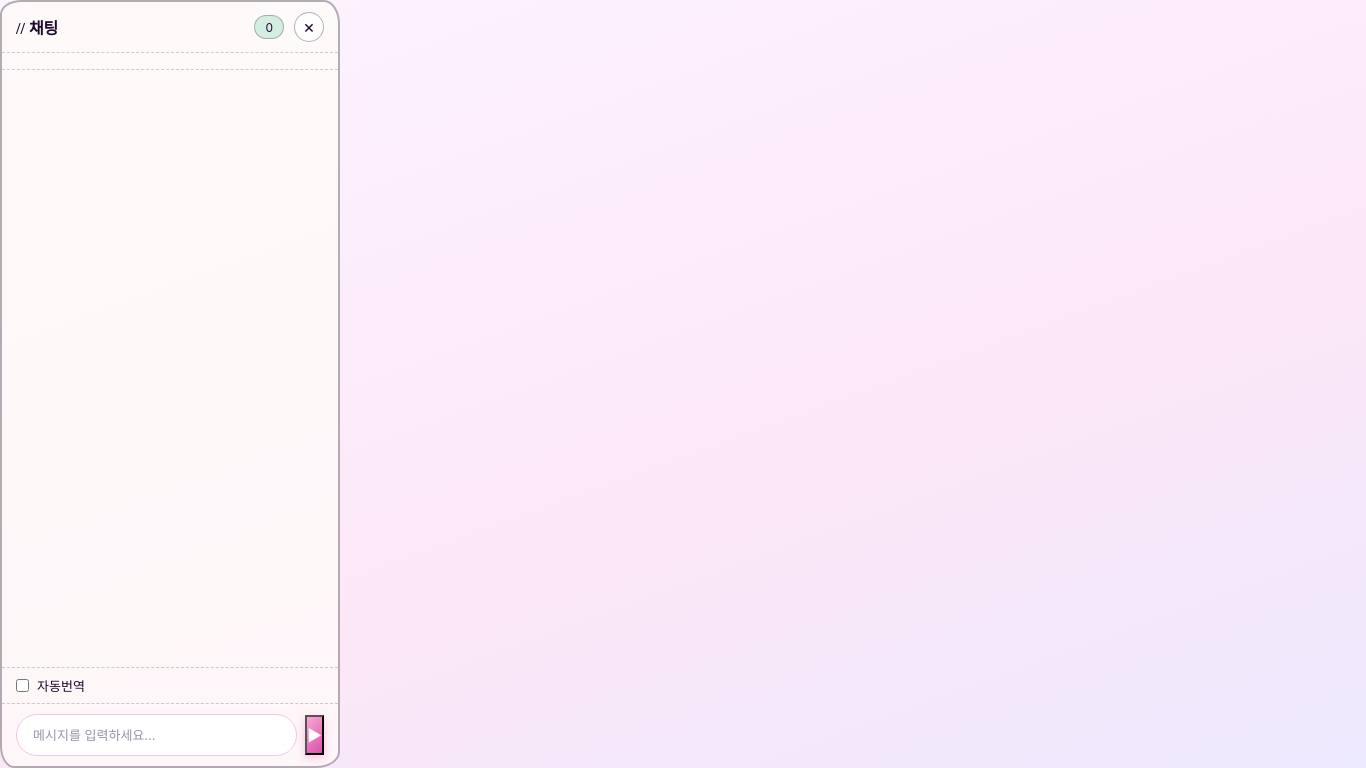
Scenario: ChatDock 입력창 › 소켓이 없으면 조용히 버리지 않고 실패를 알린다
Type "hello" into the field at (157, 735), box [16,714,297,756]
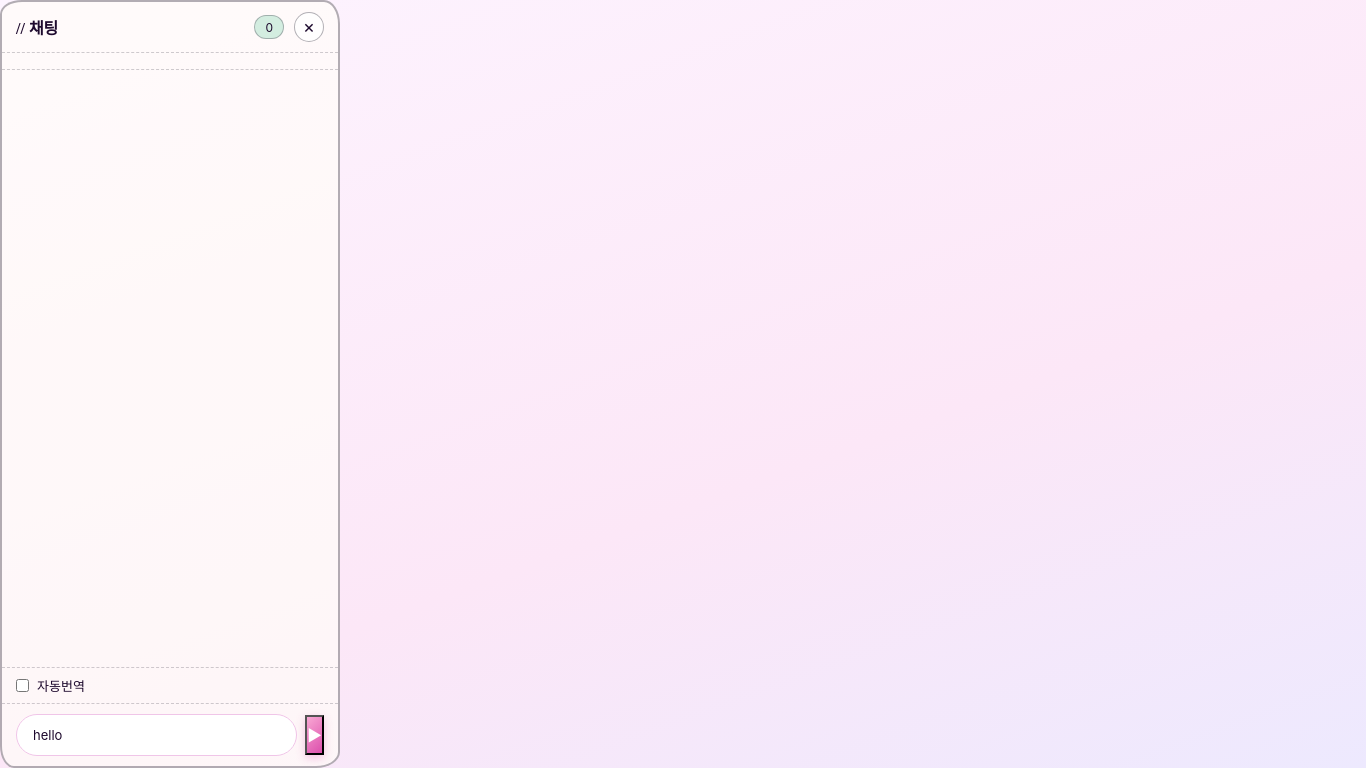
Press Enter in the field, box [16,714,297,756]
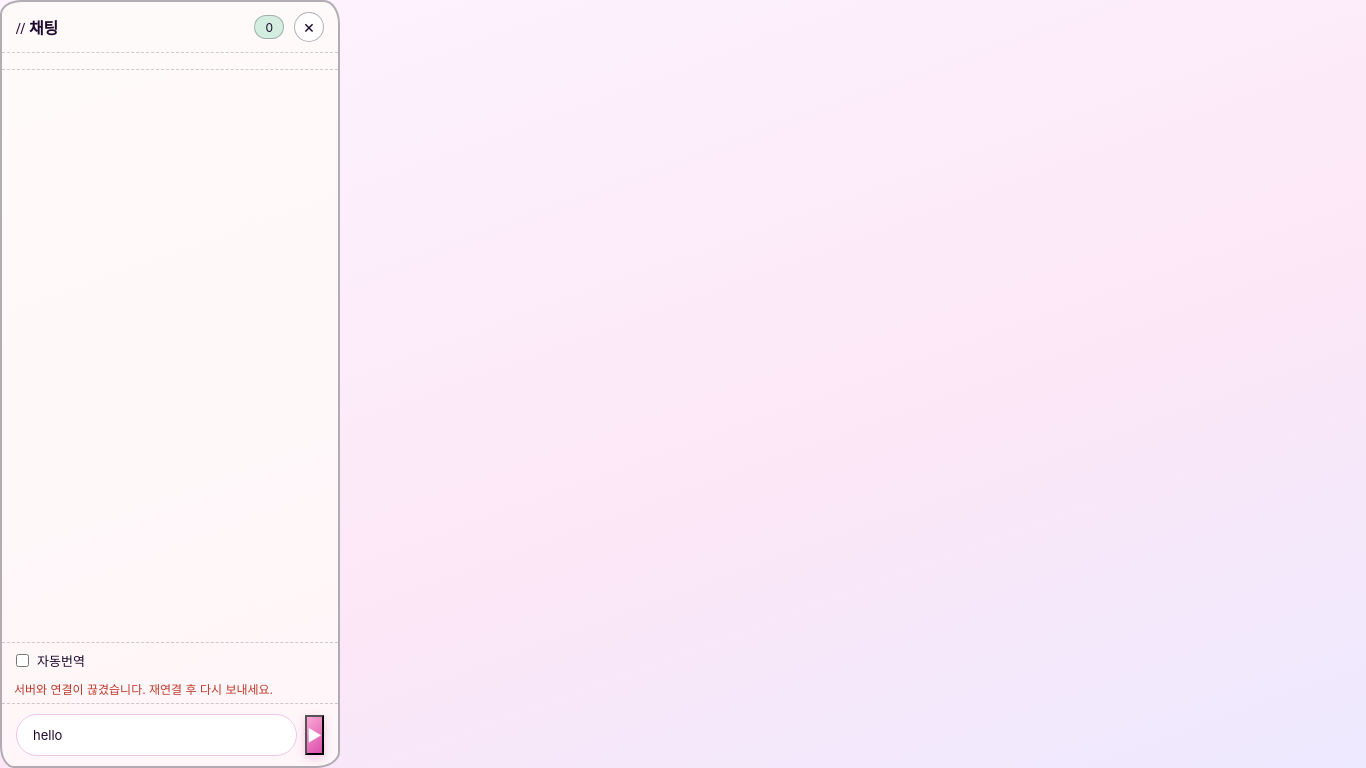
Expected: the message "서버와 연결이 끊겼습니다. 재연결 후 다시 보내세요." is shown, [14,682,273,697]
